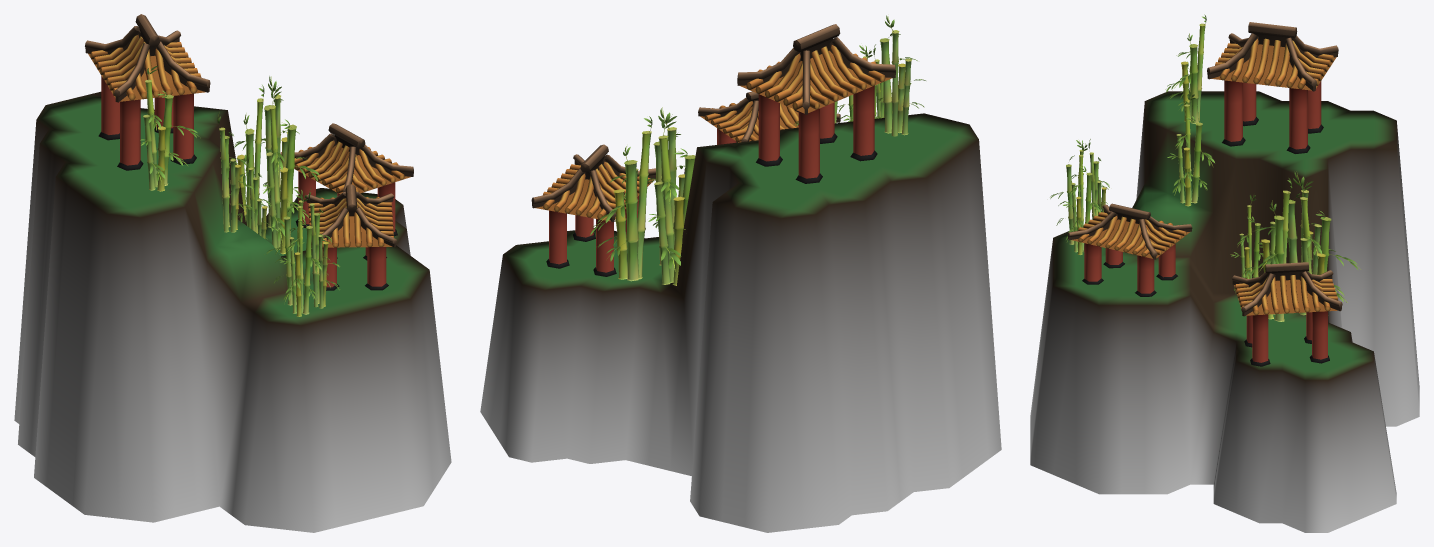
The model's file is environment.fbx.
The picture shows the model from 3 angles, left to right: view 1: azimuth 30°, elevation 25°; view 2: azimuth 150°, elevation 25°; view 3: azimuth 270°, elevation 25°; orthographic projection. The views are drawn at different scales.
Parts seen in each view (by area): view 1: Environment_Mesh; view 2: Environment_Mesh; view 3: Environment_Mesh.
Part boxes in pixels (left/top/right/bottom): Environment_Mesh: left=14, top=14, right=451, bottom=532; Environment_Mesh: left=480, top=15, right=1001, bottom=532; Environment_Mesh: left=1030, top=14, right=1419, bottom=532.
Size of the model in its own units: 380 by 364 by 340.
